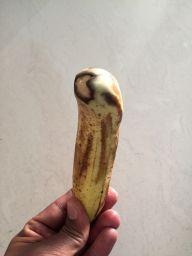banana: (70, 65, 126, 222)
